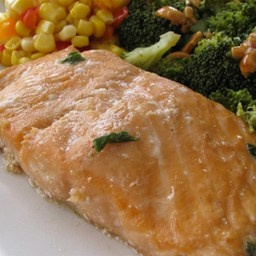background: (0, 0, 102, 102)
